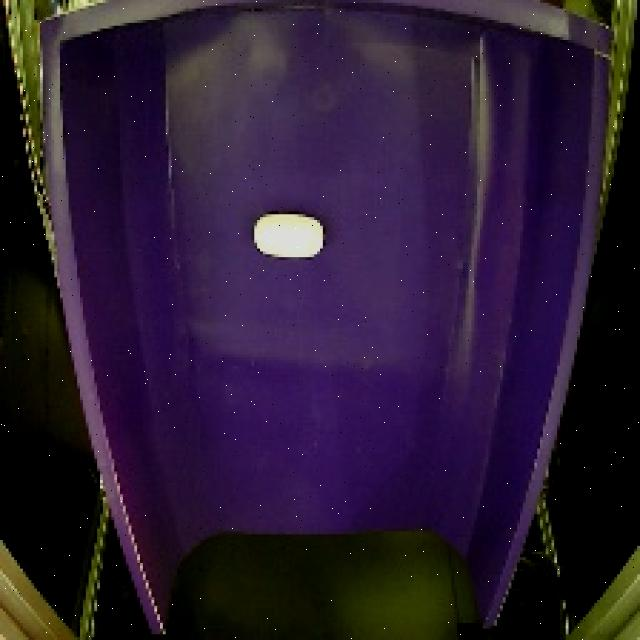small: (250, 210, 326, 261)
